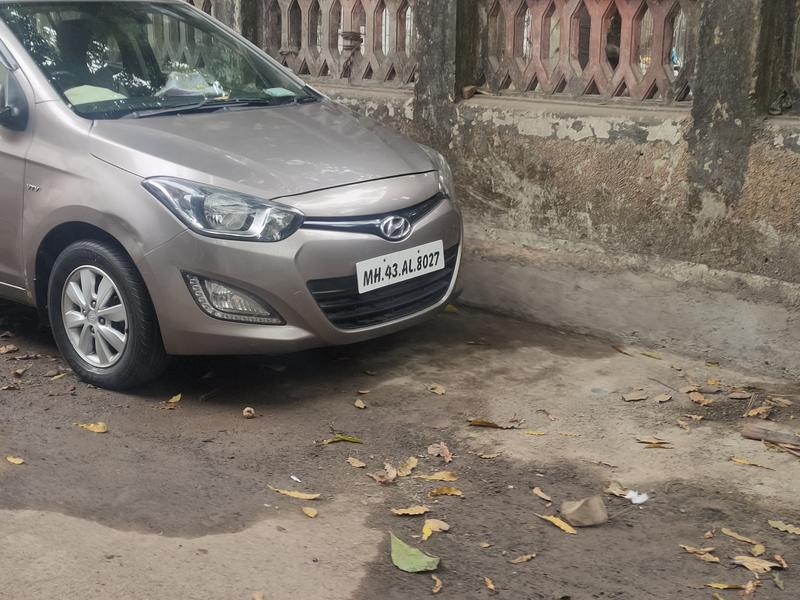license_plate: (350, 235, 444, 304)
